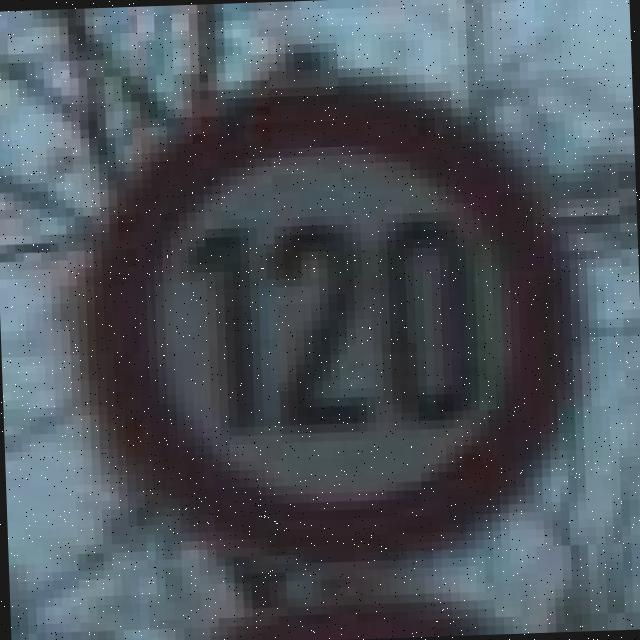Ograniczenie predkosci do 120: (52, 52, 598, 598)
